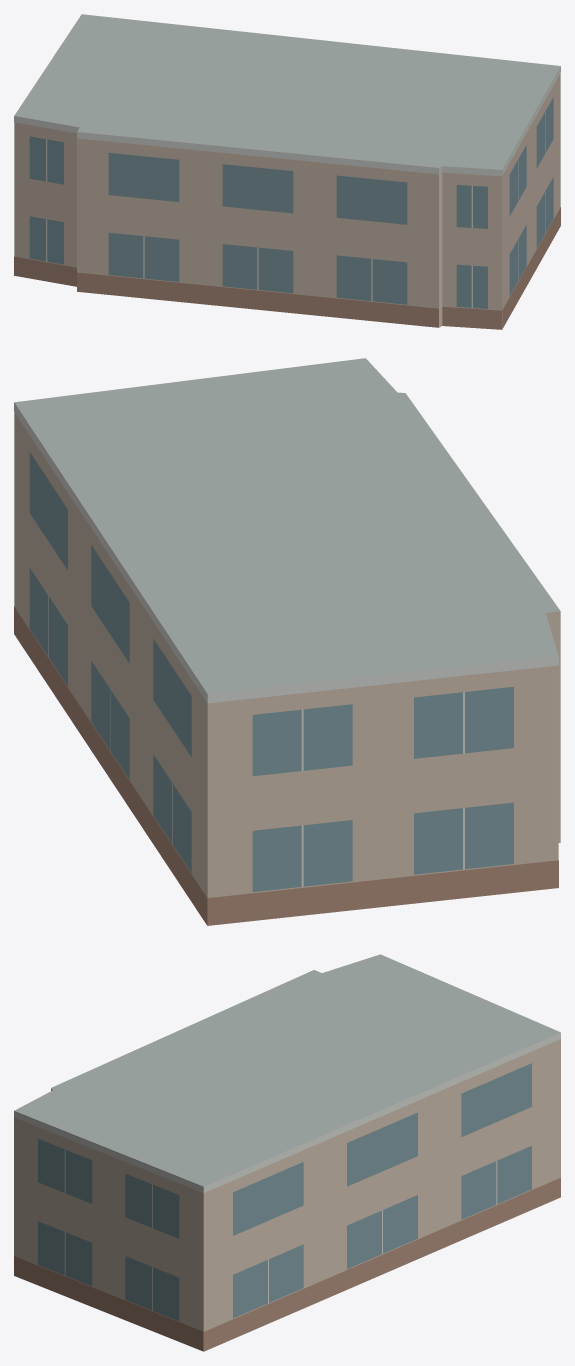
The model's file is survey-upis-32805247.glb.
3 renders of one model, top to bottom at view 1: azimuth 30°, elevation 25°; view 2: azimuth 150°, elevation 25°; view 3: azimuth 270°, elevation 25°, orthographic. The views are drawn at different scales.
Parts seen in each view (by area): view 1: survey-upis-32805247.tmp; view 2: survey-upis-32805247.tmp; view 3: survey-upis-32805247.tmp.
Boxes of the visible parts, bbox=[...] form: survey-upis-32805247.tmp: bbox=[14, 14, 560, 329]; survey-upis-32805247.tmp: bbox=[14, 358, 560, 925]; survey-upis-32805247.tmp: bbox=[14, 954, 560, 1351].
Bounding box in the file's own units: 18.43 × 6.1 × 18.33.
